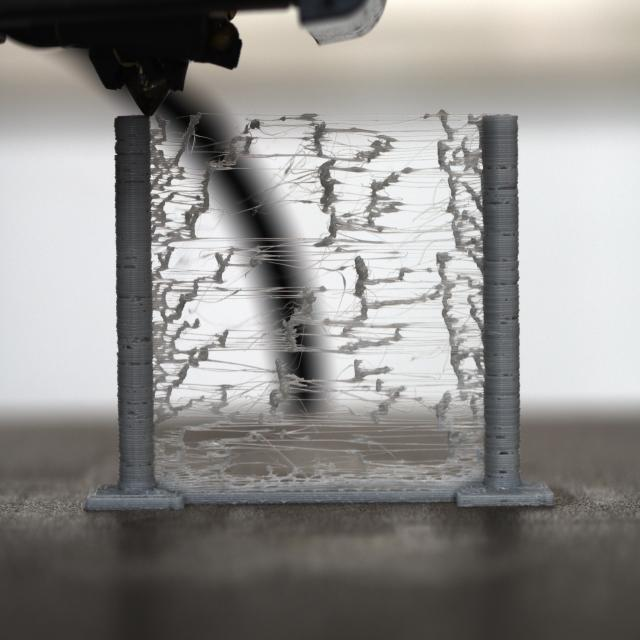Warping: (152, 113, 483, 499)
